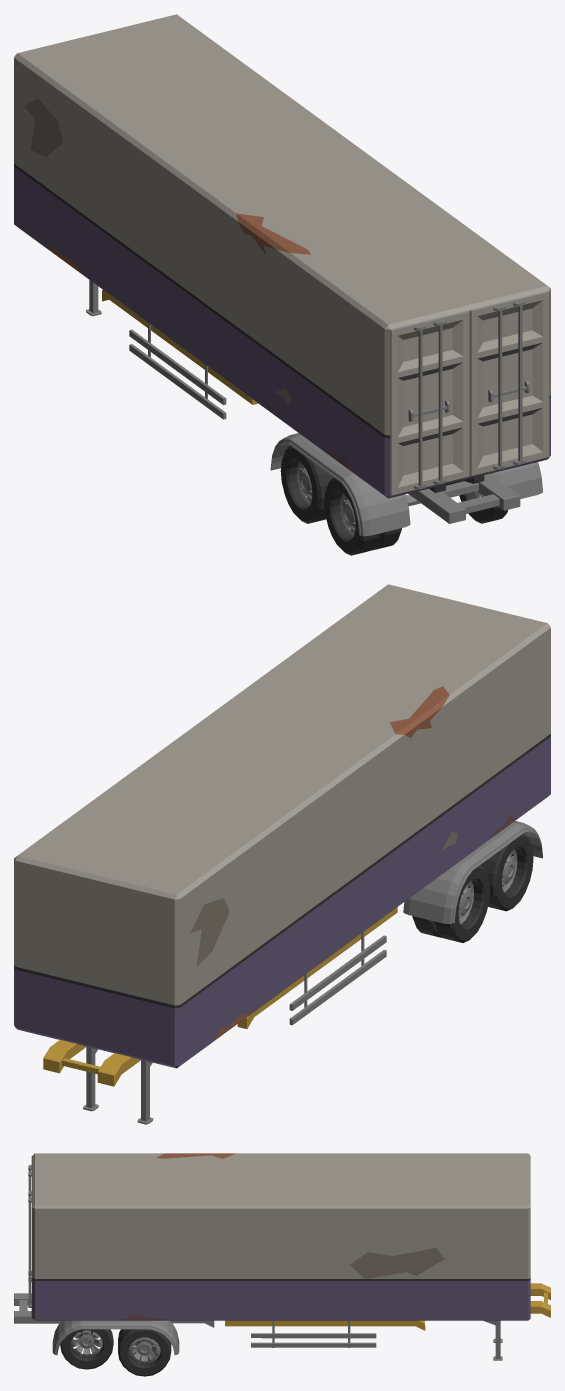
File: model_truck_container.fbx
The picture shows the model from 3 angles, top to bottom: view 1: azimuth 30°, elevation 25°; view 2: azimuth 150°, elevation 25°; view 3: azimuth 270°, elevation 25°; orthographic projection. The views are drawn at different scales.
Parts seen in each view (by area): view 1: model_truck_container; view 2: model_truck_container; view 3: model_truck_container.
Boxes of the visible parts, <box> form: model_truck_container: <box>14,14,550,555</box>; model_truck_container: <box>14,584,550,1124</box>; model_truck_container: <box>14,1153,550,1376</box>.
Size of the model in its own units: 371 by 494 by 1412.
Materials: 1 (1 with a texture image).
